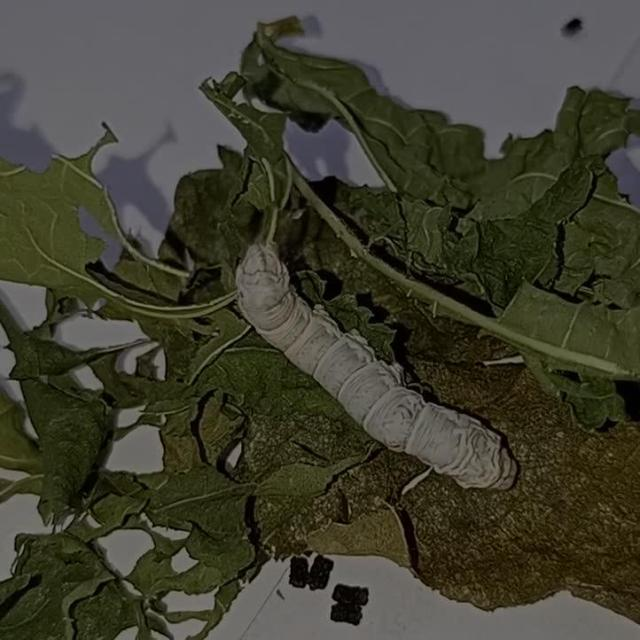Healthy: (204, 210, 536, 515)
